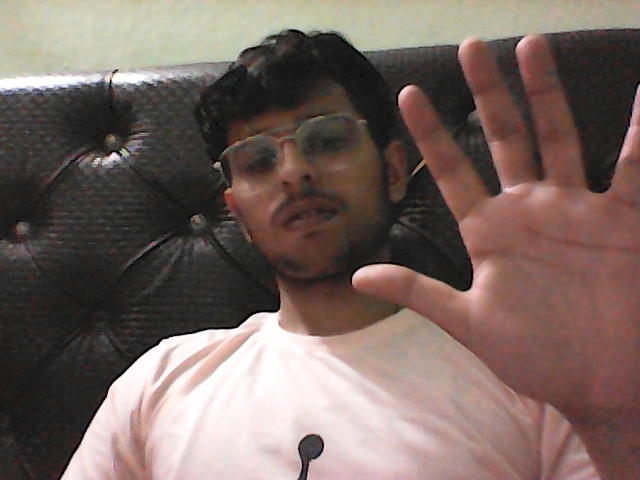hello: (336, 16, 640, 442)
